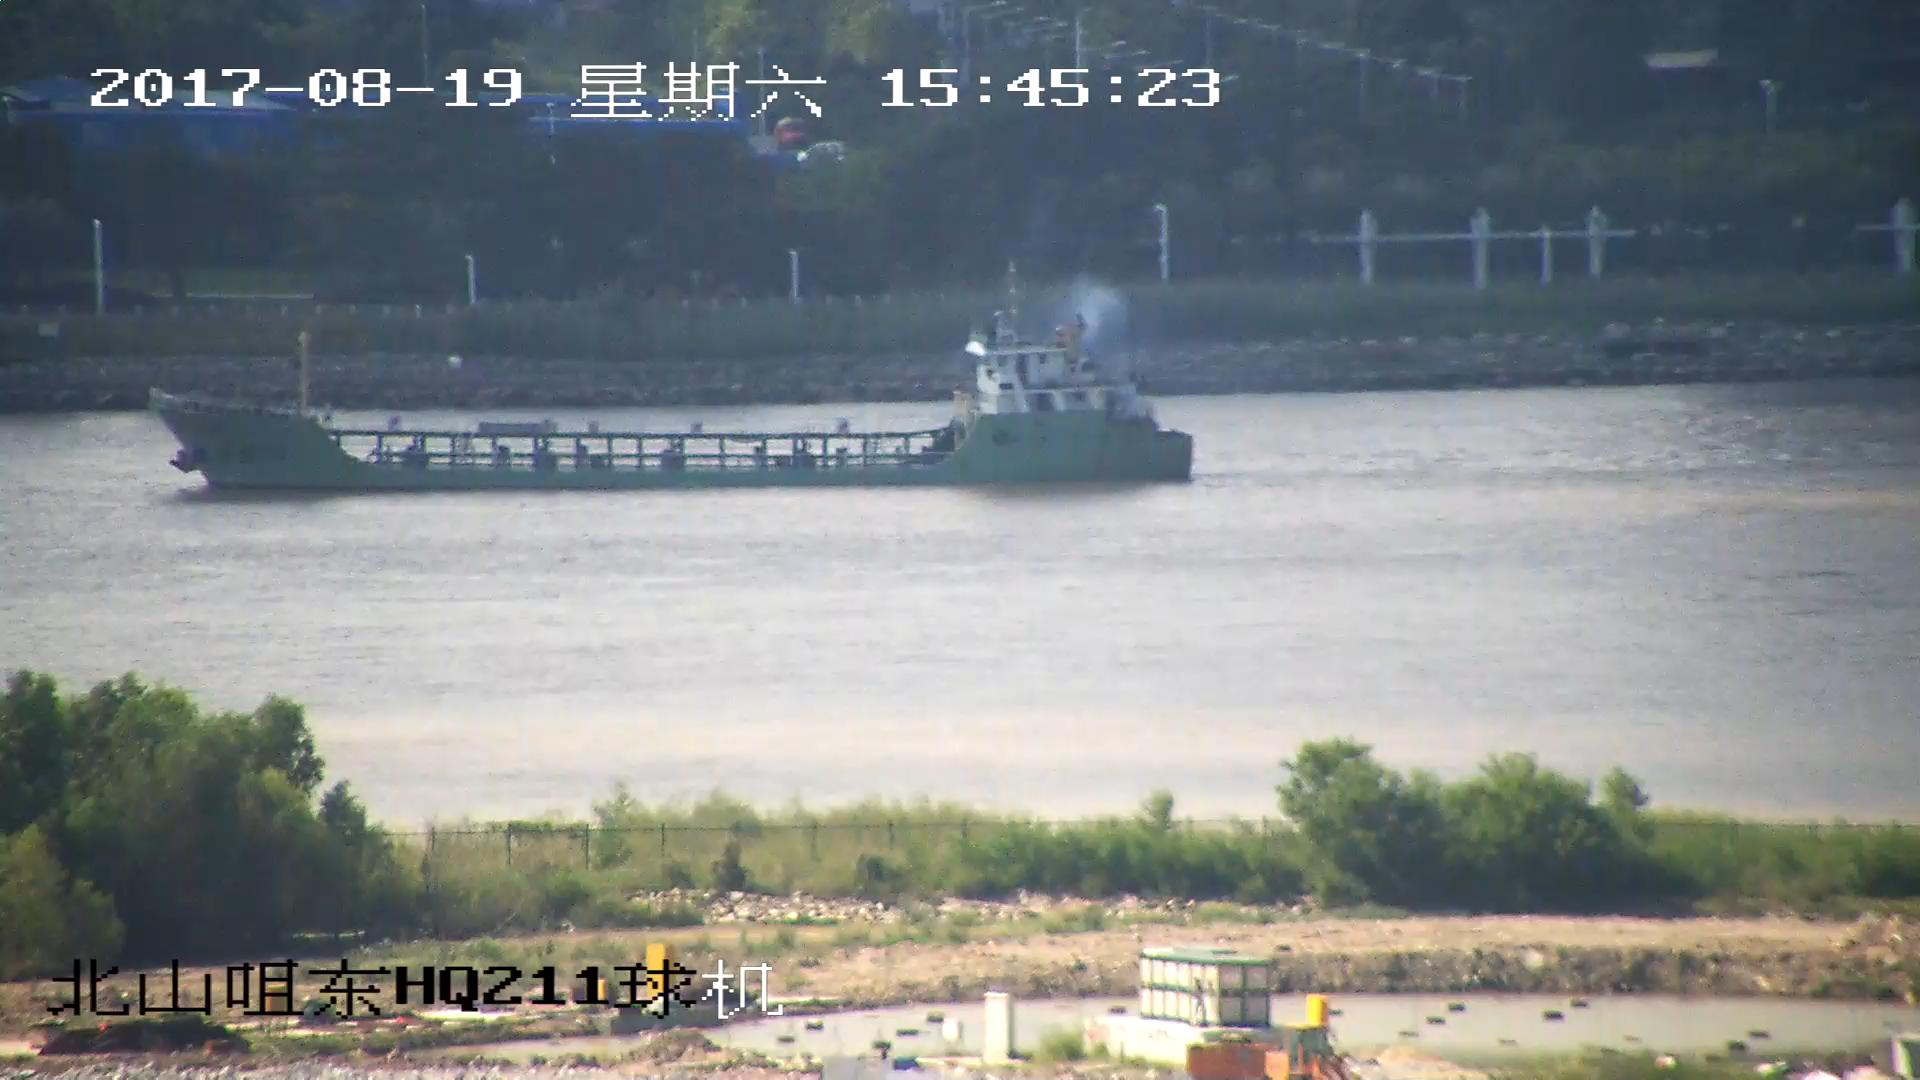general cargo ship: (155, 292, 1193, 495)
